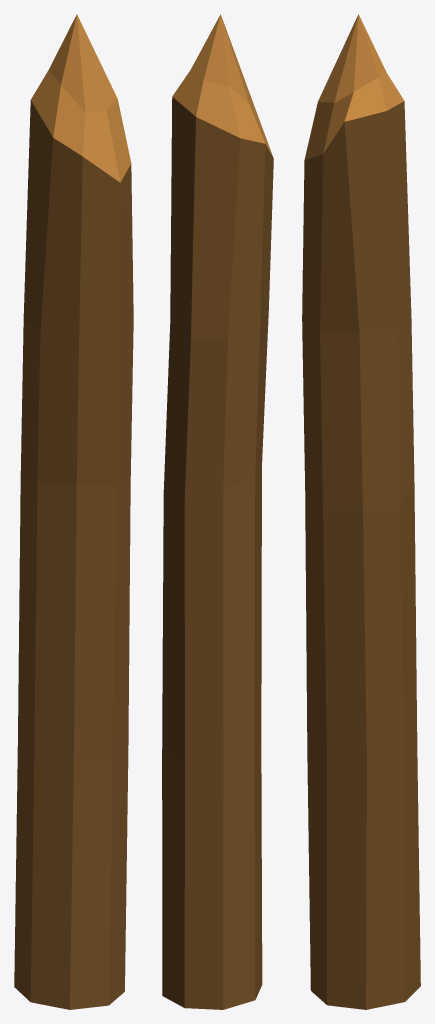
The model's file is viking s2.fbx.
The picture shows the model from 3 angles, left to right: view 1: azimuth 90°, elevation 25°; view 2: azimuth 150°, elevation 25°; view 3: azimuth 270°, elevation 25°; orthographic projection.
Parts seen in each view (by area): view 1: Cylinder.011; view 2: Cylinder.011; view 3: Cylinder.011.
Part boxes in pixels (<box>): Cylinder.011: <box>14,14,133,1009</box>; Cylinder.011: <box>162,14,273,1009</box>; Cylinder.011: <box>302,14,420,1009</box>.
Bounding box in the file's own units: 11.81 × 123 × 13.58.
